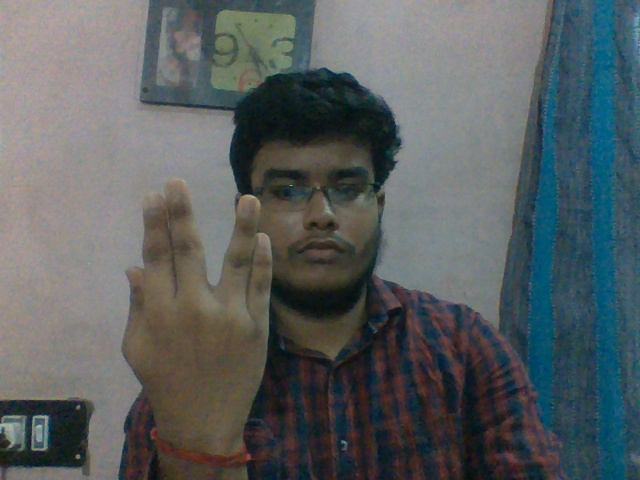LiveLong: (122, 175, 272, 431)
